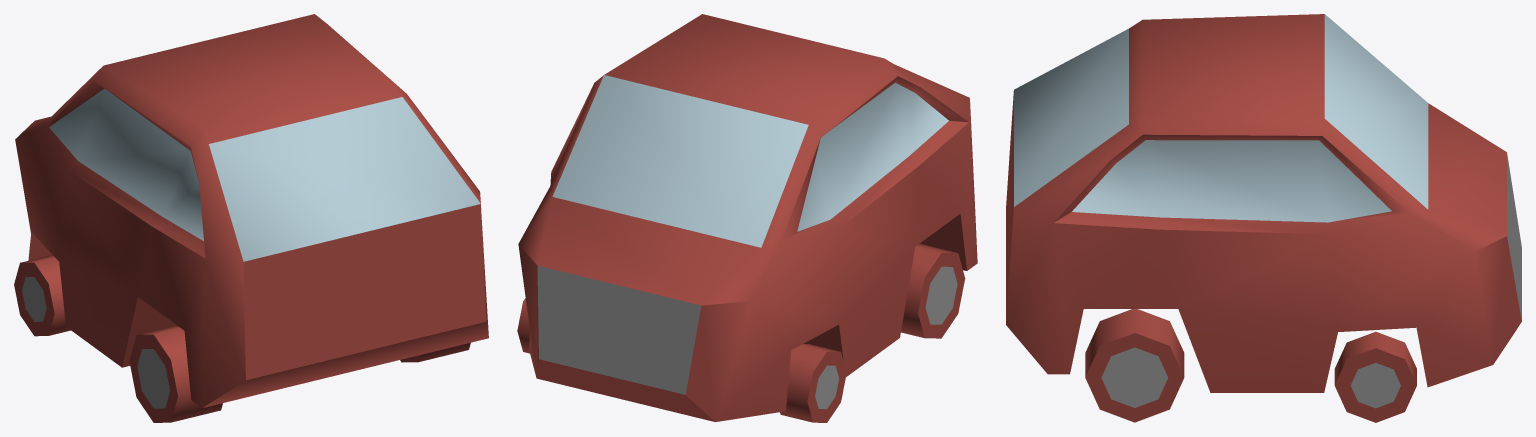
Rendered from coche.fbx.
3 renders of one model, left to right at view 1: azimuth 30°, elevation 25°; view 2: azimuth 150°, elevation 25°; view 3: azimuth 270°, elevation 25°, orthographic. The views are drawn at different scales.
Visible parts, largest first — view 1: coche; view 2: coche; view 3: coche.
Part boxes in pixels (bbox=[...]): coche: bbox=[14, 14, 488, 422]; coche: bbox=[517, 14, 977, 422]; coche: bbox=[1006, 14, 1521, 422].
Size of the model in its own units: 0.2334 by 0.2075 by 0.3432.
